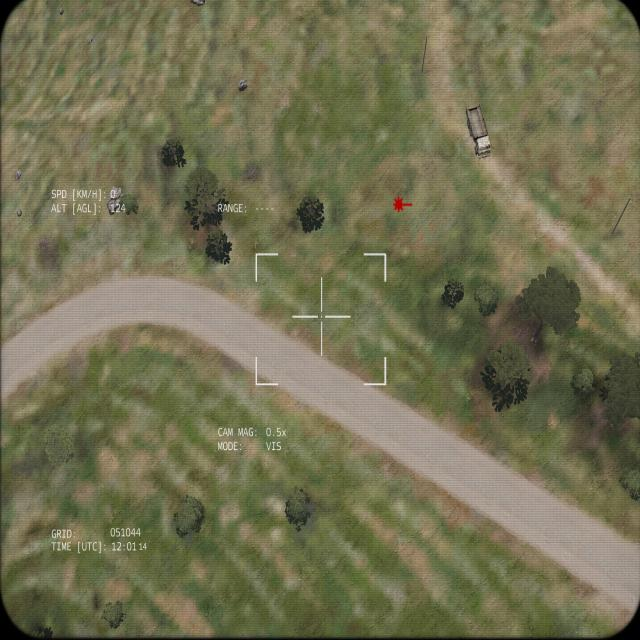truck: (464, 102, 492, 160)
